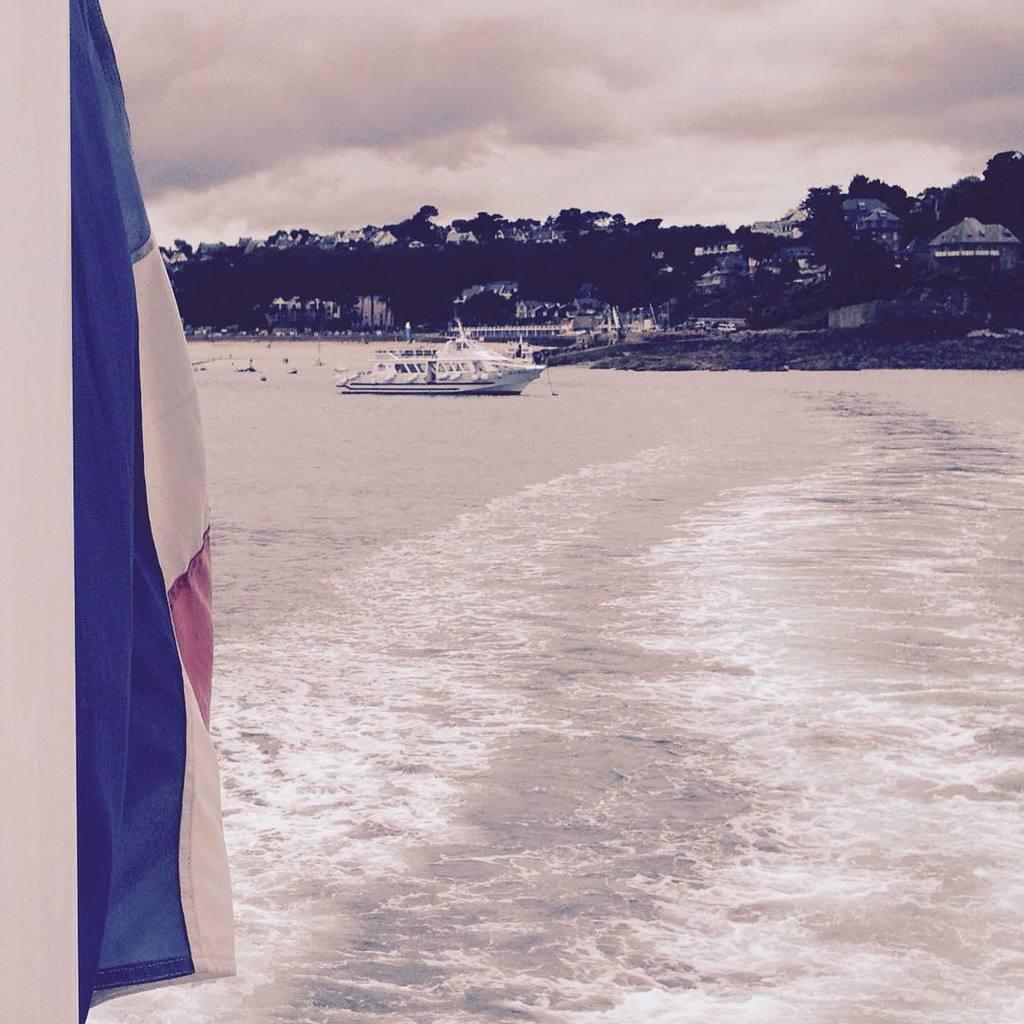PassengerShip: (326, 316, 548, 404)
